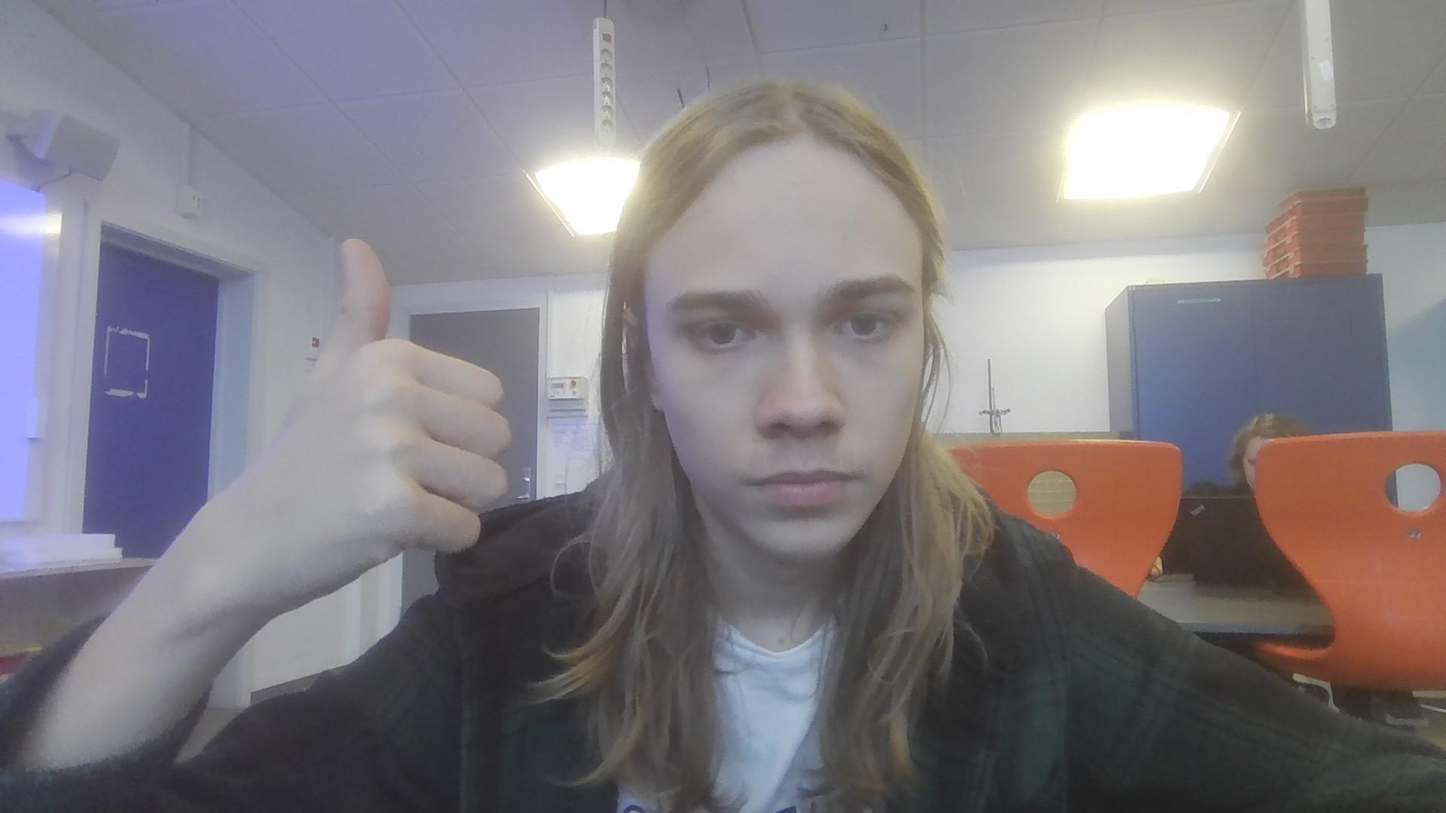thumbs up: (218, 236, 523, 620)
